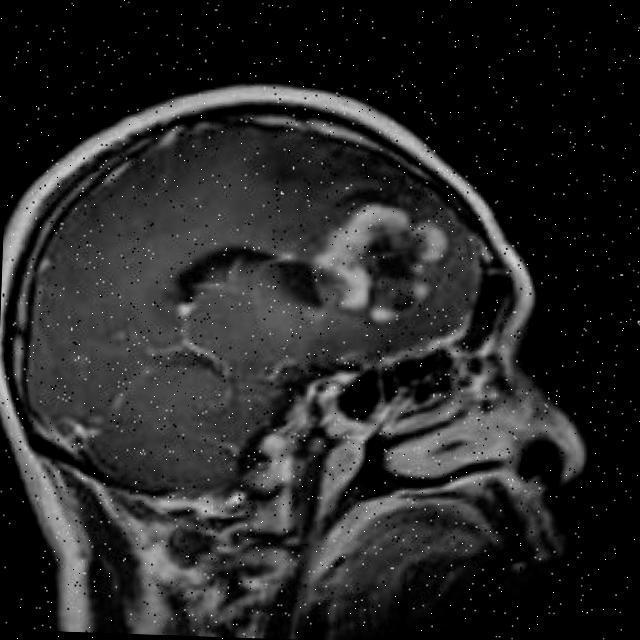MCI: (325, 167, 470, 347)
